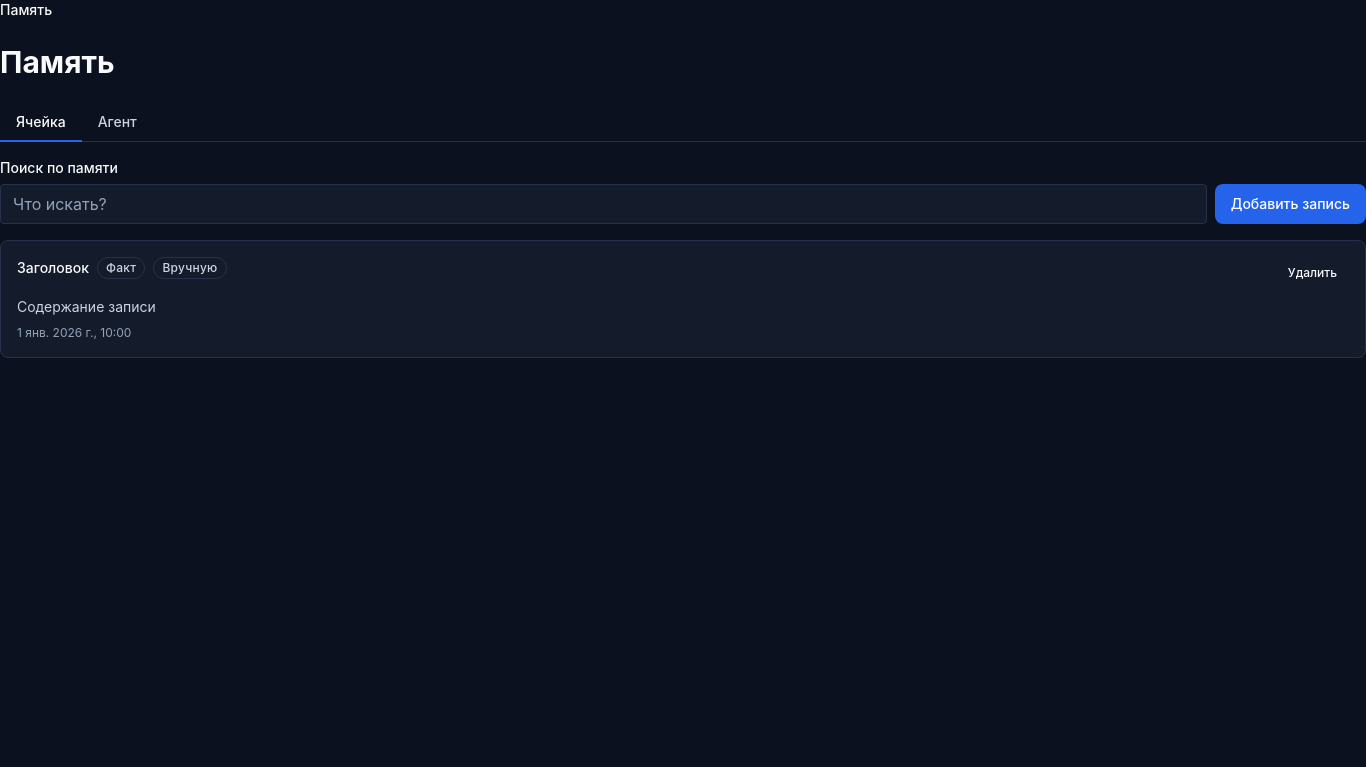
it: MemoryPanelPage › shows a validation error when submitting an empty add form
The image size is (1366, 767).
Expected: the text "Содержание записи" is shown, [17, 298, 156, 315]
What coordinates should you click on to do the following:
click the button "Добавить запись"
I would click on:
 (1290, 204)
Its box is [1215, 184, 1365, 224].
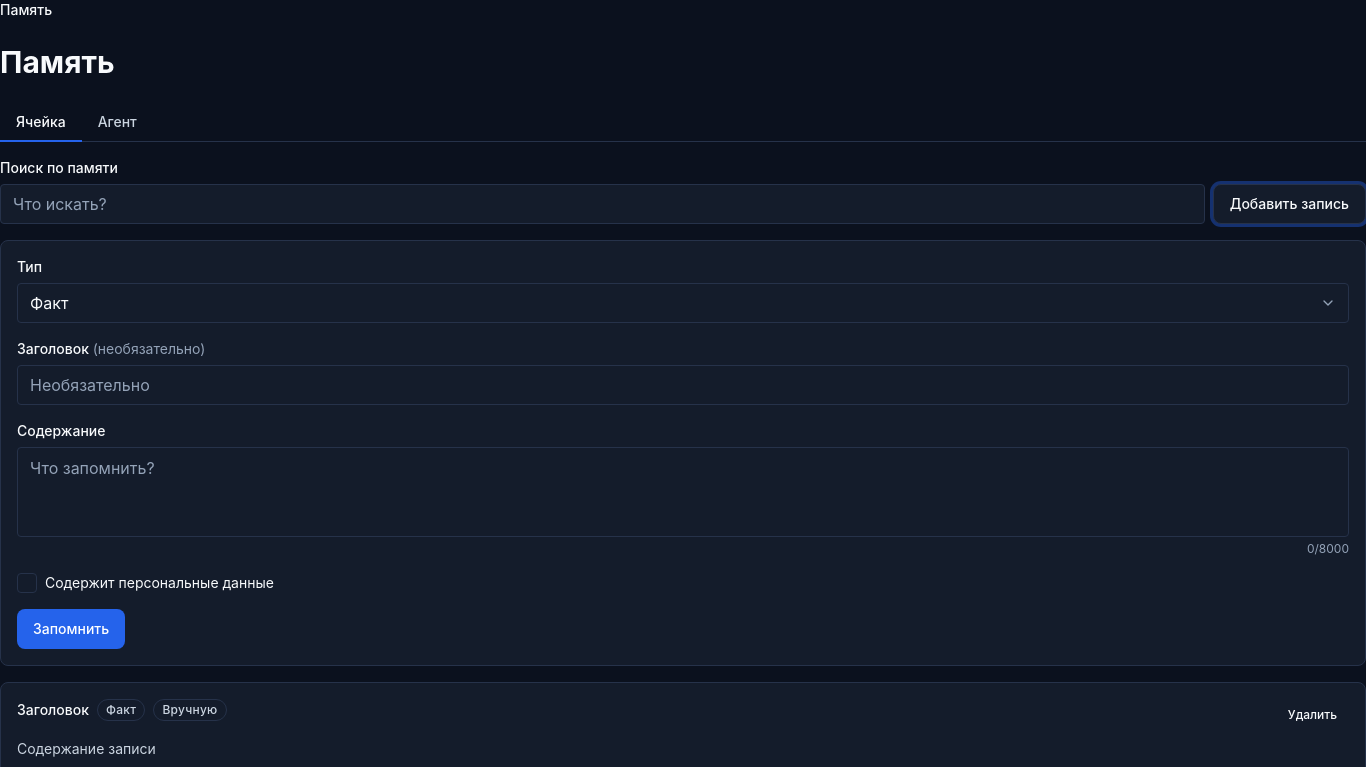
What coordinates should you click on to do the following:
click the button "Запомнить"
I would click on:
 (71, 629)
Its box is [17, 609, 125, 649].
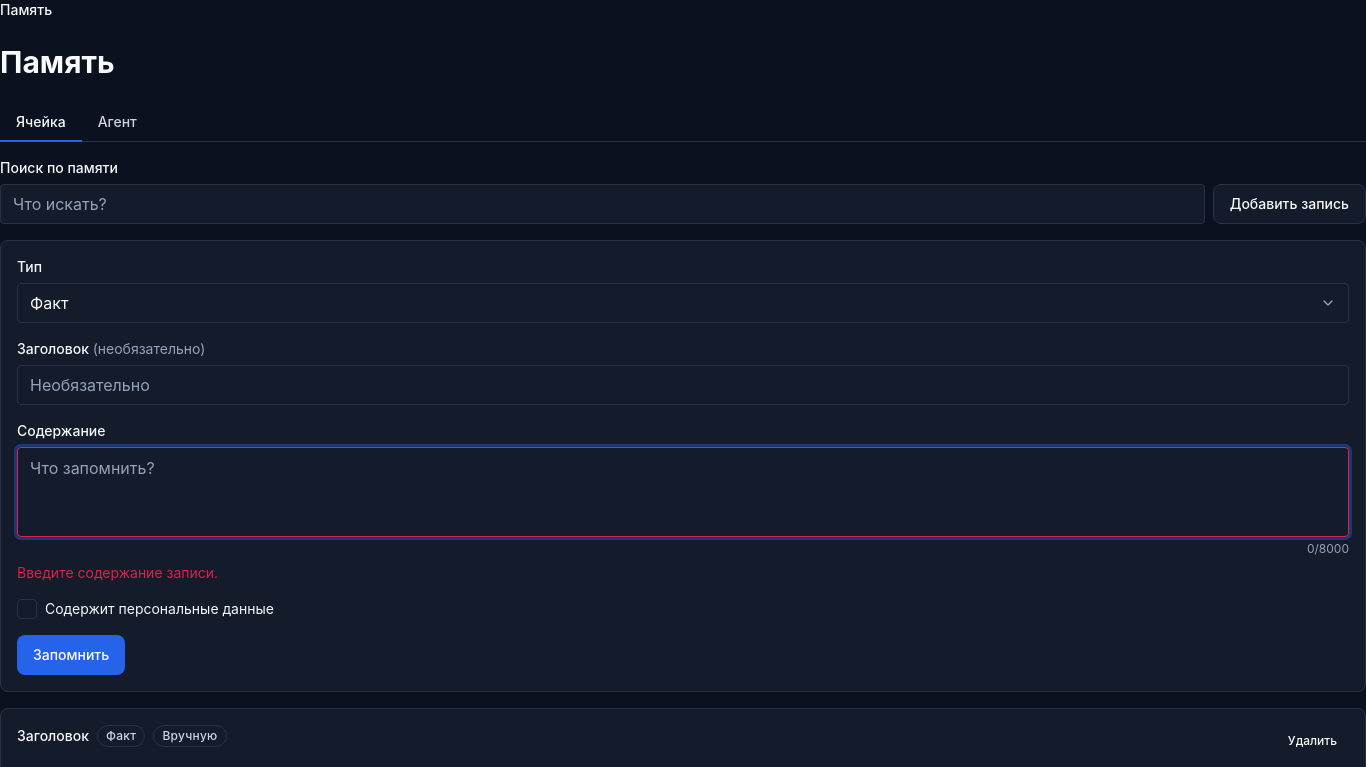
Now the message "Введите содержание записи." is shown, box [17, 564, 218, 581]
